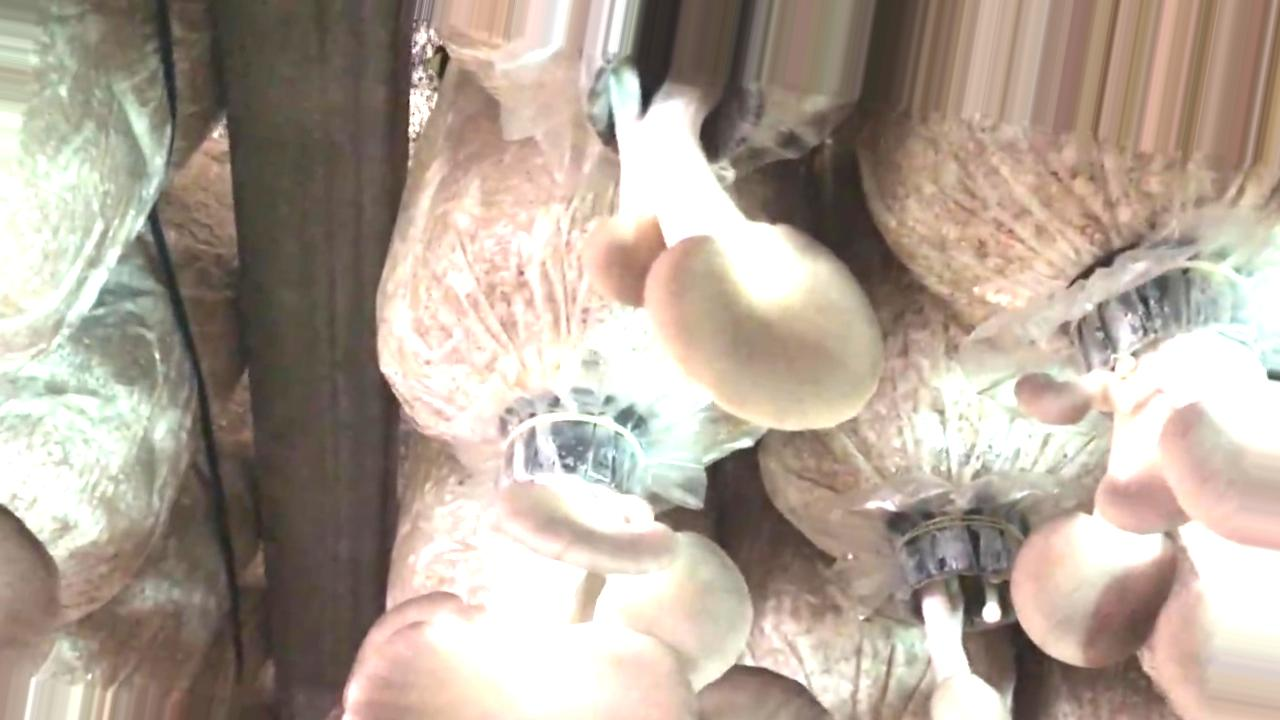nam: (584, 1, 881, 430), (1011, 257, 1280, 714), (351, 492, 831, 720), (890, 495, 1022, 719)
